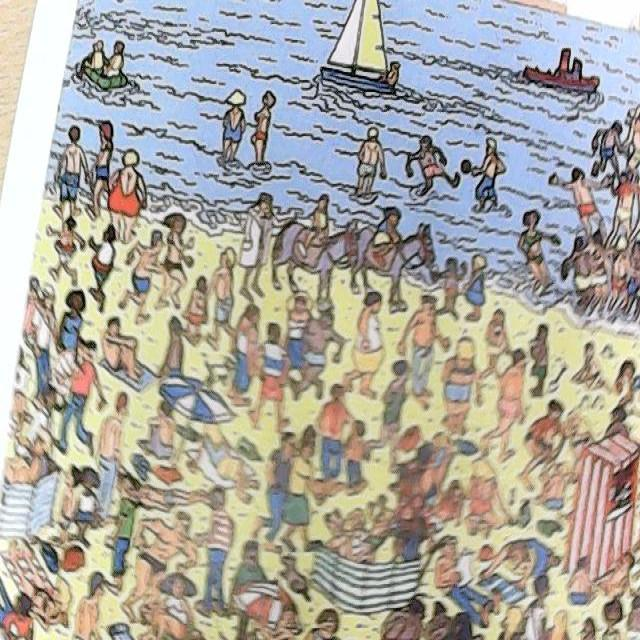waldo: (404, 465, 427, 503)
